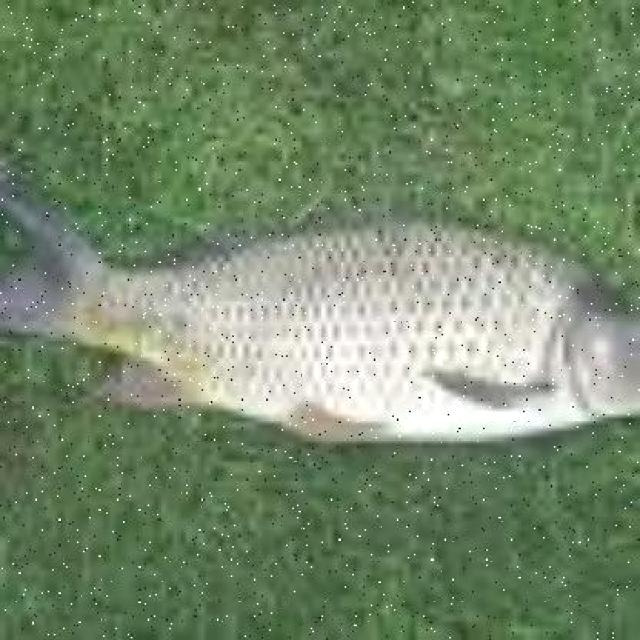ikan-mas: (6, 185, 637, 442)
